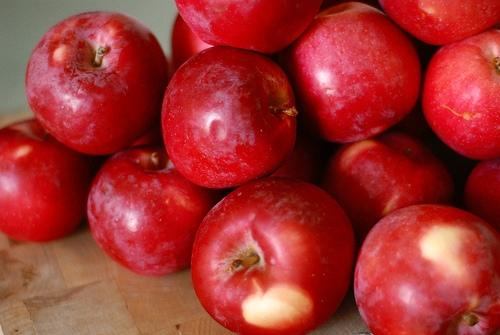apple: (189, 176, 357, 335), (26, 10, 168, 156), (278, 1, 422, 144), (160, 45, 298, 189), (352, 202, 498, 334), (86, 145, 223, 276), (320, 131, 455, 246), (0, 118, 104, 243), (421, 26, 499, 160), (176, 0, 323, 54), (380, 2, 499, 44), (394, 50, 444, 148), (269, 130, 328, 186), (172, 11, 214, 75), (463, 161, 500, 232), (128, 118, 164, 148)
